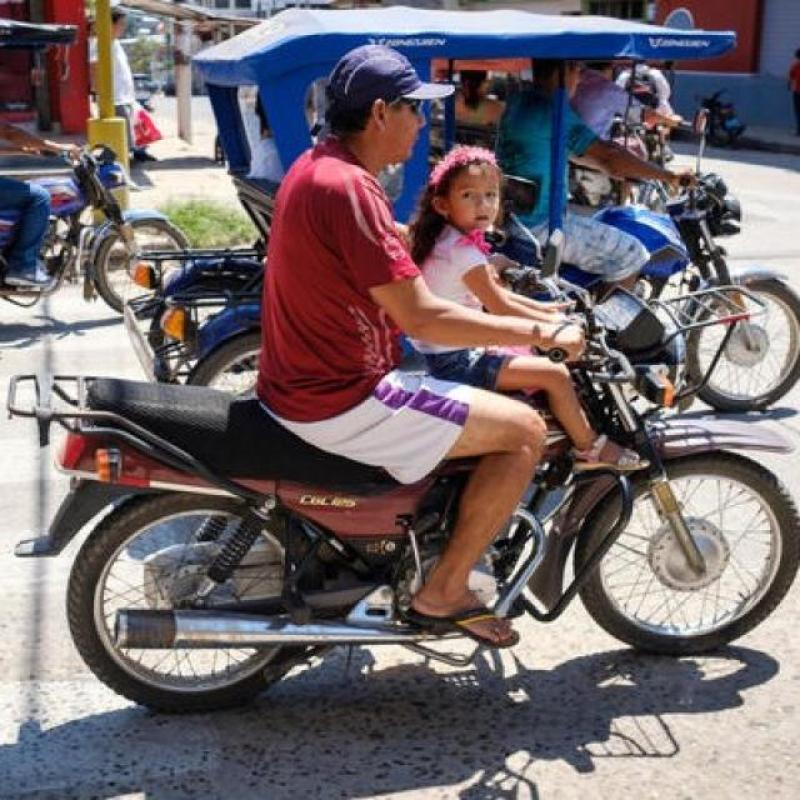nohelmet: (304, 45, 424, 181), (439, 142, 520, 250)
